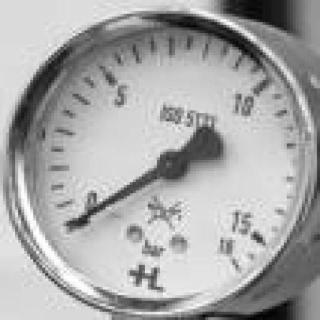gauge: (0, 3, 320, 320), (212, 232, 257, 288), (57, 202, 105, 240), (154, 150, 186, 183), (63, 215, 84, 237)
